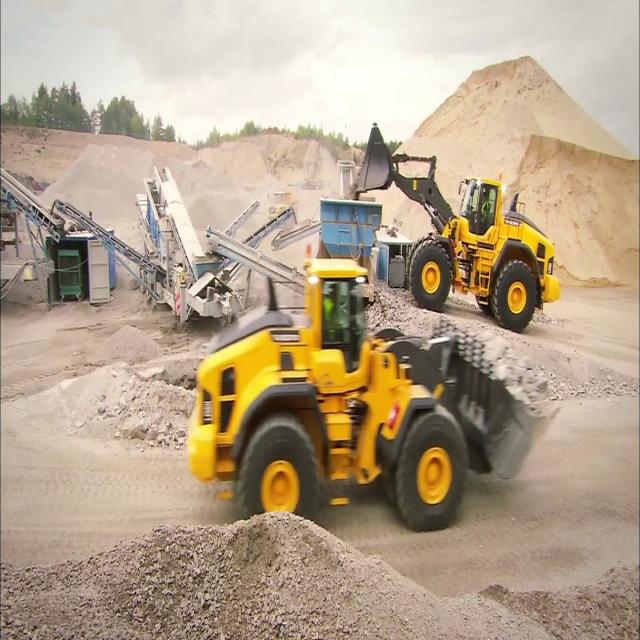bull_dozer/loader/grader: (176, 260, 498, 546), (408, 168, 557, 351)
